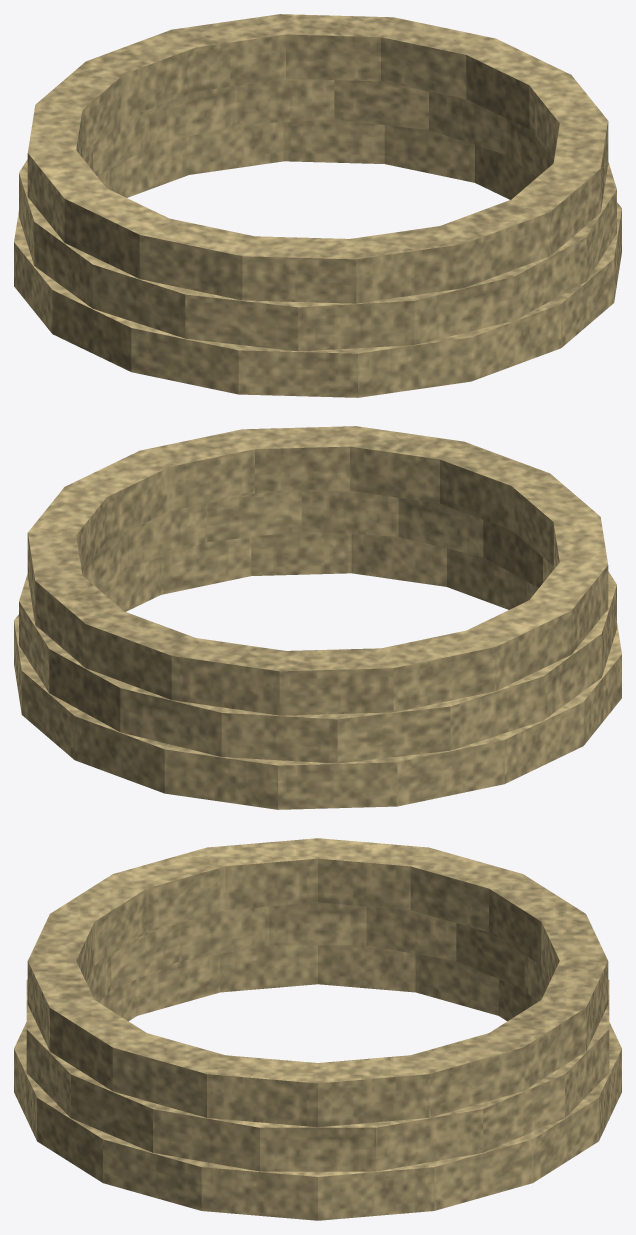
Rendered from rope_coil.fbx.
The picture shows the model from 3 angles, top to bottom: view 1: azimuth 30°, elevation 25°; view 2: azimuth 150°, elevation 25°; view 3: azimuth 270°, elevation 25°; orthographic projection.
Parts seen in each view (by area): view 1: rope_coil; view 2: rope_coil; view 3: rope_coil.
Part boxes in pixels (x1=…): rope_coil: x1=14, y1=14, x2=621, y2=397; rope_coil: x1=14, y1=426, x2=621, y2=809; rope_coil: x1=14, y1=838, x2=621, y2=1220.
Bounding box in the file's own units: 44 × 10.5 × 44.
